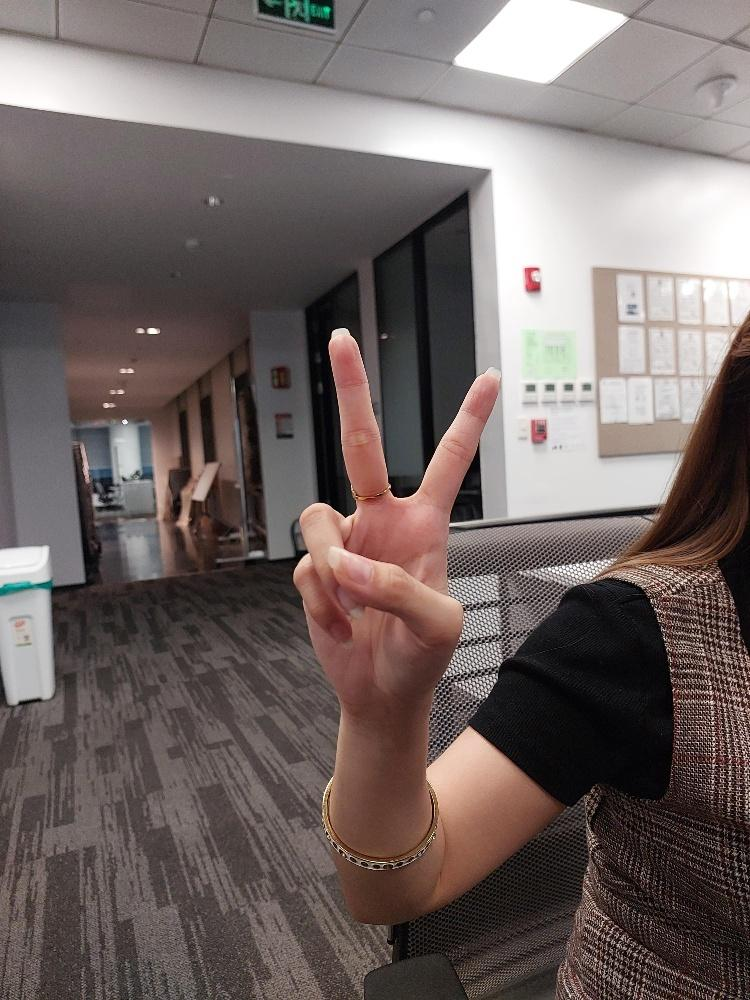v: (289, 324, 506, 719)
